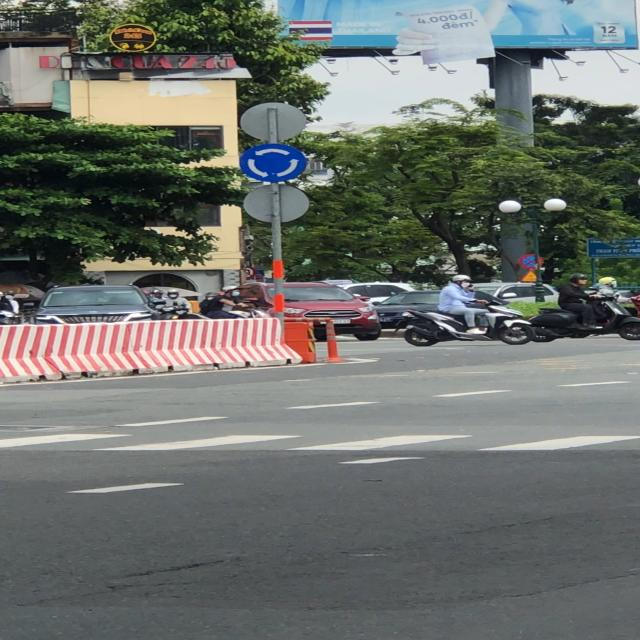Bien bao noi giao nhau chay theo vong xuyen: (238, 141, 309, 186)
